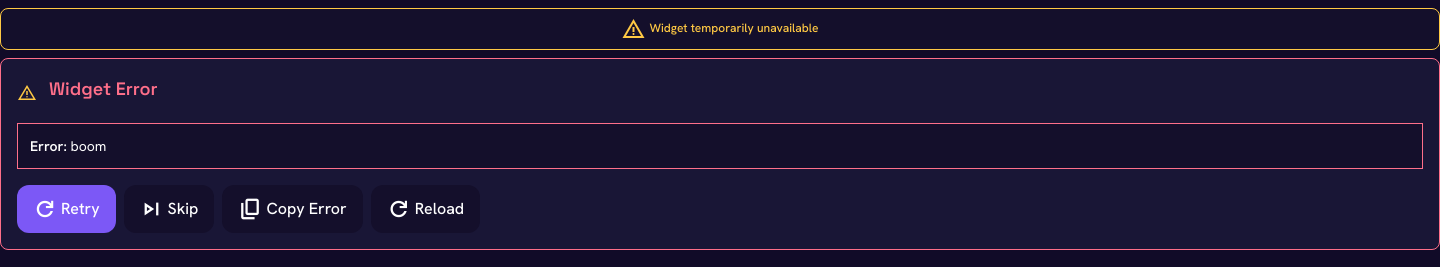
Test: FeatureErrorBoundary › keeps icon glyphs out of the skipped-state accessible text
The image size is (1440, 267).
What coordinates should you click on to do the following:
click the button "Skip"
I would click on:
 (169, 209)
Its box is x1=124 y1=185 x2=214 y2=233.
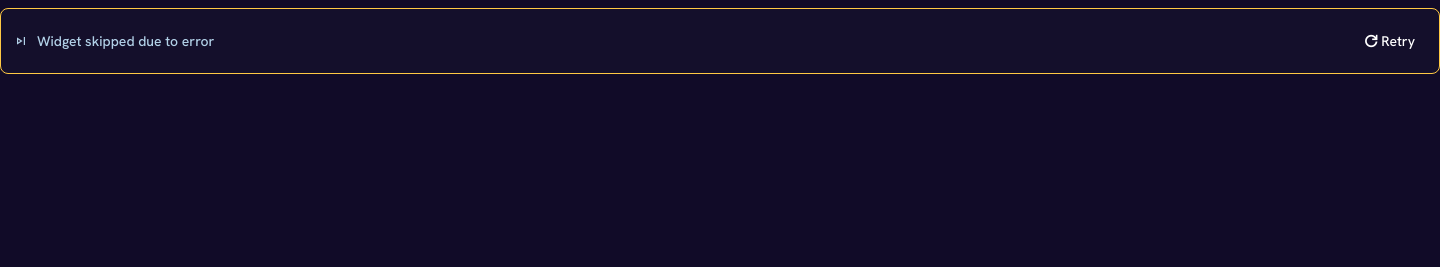
Expected: the button "Retry" is shown, x1=1349 y1=21 x2=1427 y2=61
Expected: the text "Widget skipped due to error" is shown, x1=37 y1=32 x2=214 y2=50
